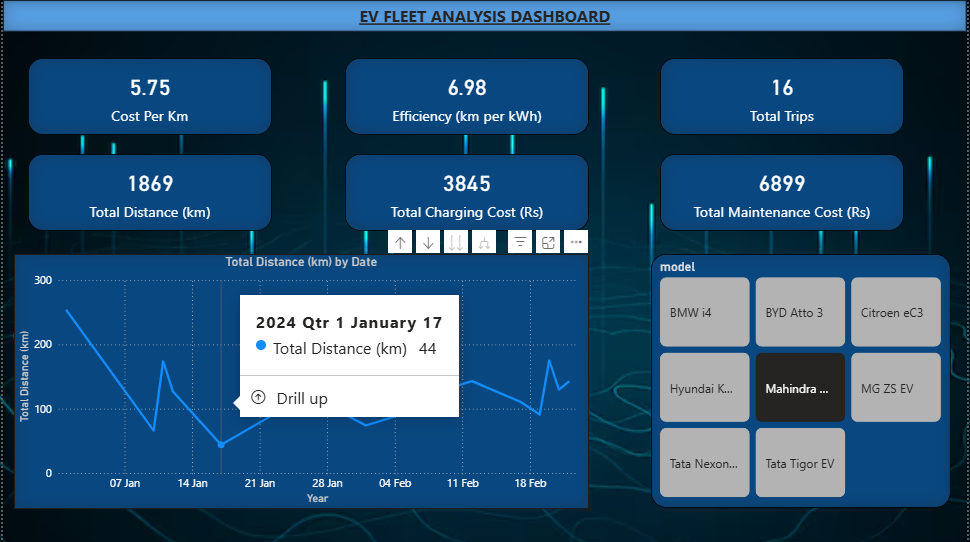

Layout of this report page (visuals, bound fields, positions):
{"tool":"powerbi","page":{"name":"vehicle analysis overview","canvas":[1280,720],"ordinal":0},"visuals":[{"type":"card","fields":{"Values":["charging_sessions.Total Charging Cost (Rs)"]},"box":[454.1,204.6,324.1,101.6],"z":0},{"type":"card","fields":{"Values":["maintenance.Total Maintenance Cost (Rs)"]},"box":[872.4,204.6,324.1,101.6],"z":1000},{"type":"card","fields":{"Values":["trip_data.Total Trips"]},"box":[872.4,77.7,324.1,101.6],"z":2000},{"type":"card","fields":{"Values":["Vehicles.Efficiency (km per kWh)"]},"box":[454.1,77.7,324.1,101.6],"z":3000},{"type":"card","fields":{"Values":["Vehicles.Cost Per Km"]},"box":[32.9,77.7,324.1,101.6],"z":4000},{"type":"textbox","box":[0,0,1280.2,41.8],"z":5000},{"type":"card","fields":{"Values":["trip_data.Total Distance (km)"]},"box":[32.9,204.6,324.1,101.6],"z":6000},{"type":"lineChart","title":"Total Distance (km) by Date","fields":{"Category":["trip_data.trip_date.Variation.Date Hierarchy.Year","trip_data.trip_date.Variation.Date Hierarchy.Quarter","trip_data.trip_date.Variation.Date Hierarchy.Month","trip_data.trip_date.Variation.Date Hierarchy.Day"],"Y":["trip_data.Total Distance (km)"]},"box":[15.2,337.9,763.6,337.9],"z":7000},{"type":"advancedSlicerVisual","fields":{"Values":["Vehicles.model"]},"box":[860.2,337.2,397.8,337.2],"z":8000}]}

Visuals, with their boxes in screenshot pixels (x1, y1, x2, y2), scaled from the page's 1280x720 canvas onto the 970x542 screenshot:
card - charging_sessions.Total Charging Cost (Rs): 344, 154, 590, 231
card - maintenance.Total Maintenance Cost (Rs): 661, 154, 907, 231
card - trip_data.Total Trips: 661, 58, 907, 135
card - Vehicles.Efficiency (km per kWh): 344, 58, 590, 135
card - Vehicles.Cost Per Km: 25, 58, 271, 135
textbox: 0, 0, 969, 31
card - trip_data.Total Distance (km): 25, 154, 271, 231
"Total Distance (km) by Date" lineChart: 12, 254, 590, 509
advancedSlicerVisual - Vehicles.model: 652, 254, 953, 508
